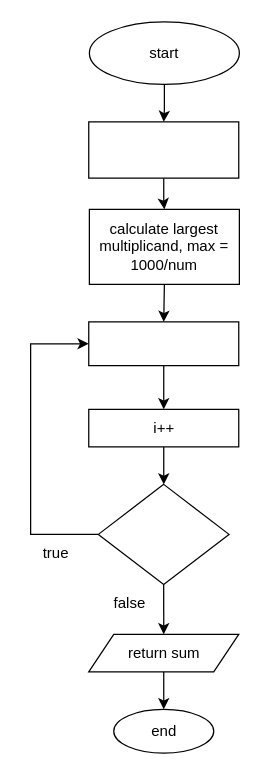
This 261x775 diagram has some shape labels left out. Each missing label, with the centre of its shape:
"declare sum, declare i, declare max" belongs at point (163, 149).
"i <= max" belongs at point (163, 533).
"sum += i*num" belongs at point (163, 343).
